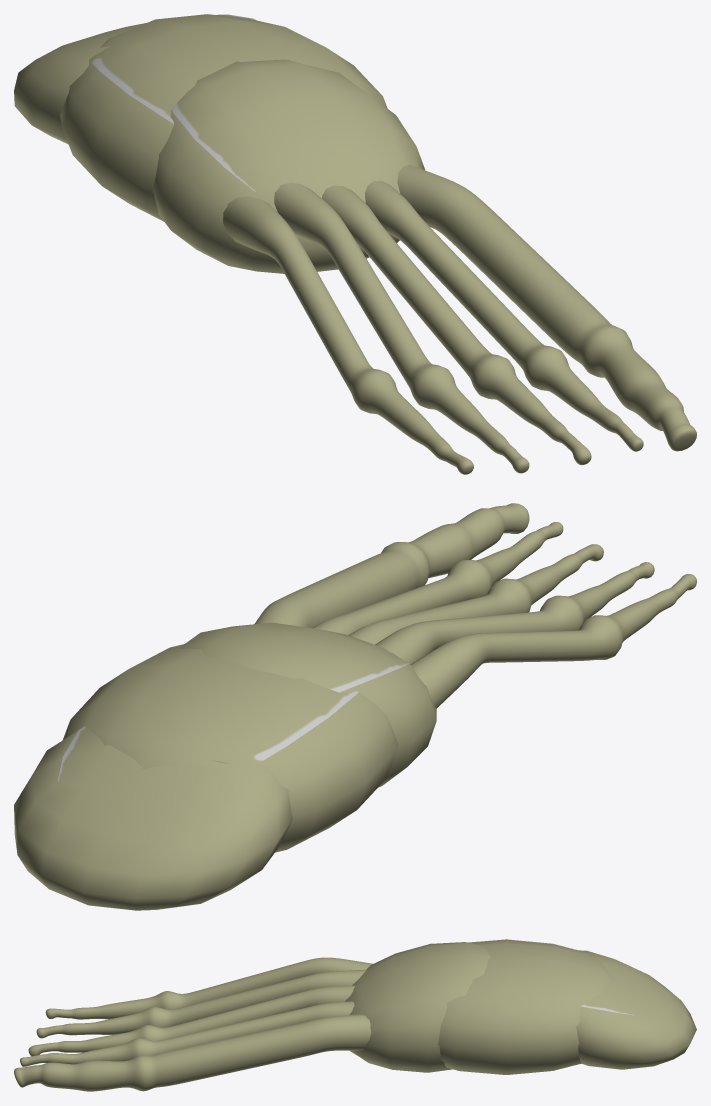
Rendered from Foot.right1.glb.
3 views of the same model, one above another, from view 1: azimuth 30°, elevation 25°; view 2: azimuth 150°, elevation 25°; view 3: azimuth 270°, elevation 25° (orthographic). The views are drawn at different scales.
Parts seen in each view (by area): view 1: Dup foot.r; view 2: Dup foot.r; view 3: Dup foot.r.
Part boxes in pixels (box(x1,y1,x2,y2)): Dup foot.r: box(14, 14, 696, 474); Dup foot.r: box(14, 503, 696, 910); Dup foot.r: box(14, 939, 696, 1091).
Size of the model in its own units: 0.2401 by 0.1331 by 0.7933.
Materials: 1 (1 with a texture image).
